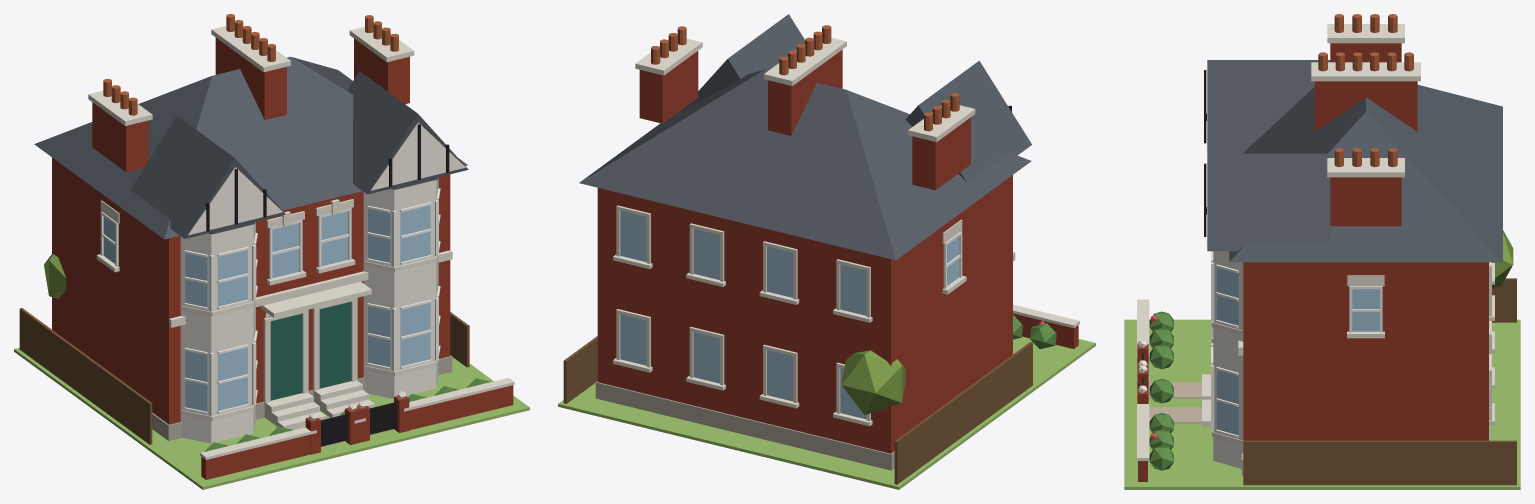
File: MustakilEv_londra_ikiz_6_Hafif.fbx
3 renders of one model, left to right at view 1: azimuth 30°, elevation 25°; view 2: azimuth 150°, elevation 25°; view 3: azimuth 270°, elevation 25°, orthographic. The views are drawn at different scales.
Visible parts, largest first — view 1: MustakilEv_londra_ikiz_6_Hafif; view 2: MustakilEv_londra_ikiz_6_Hafif; view 3: MustakilEv_londra_ikiz_6_Hafif.
Boxes of the visible parts, x1,y1,x2,y2 form: MustakilEv_londra_ikiz_6_Hafif: (14, 14, 529, 489); MustakilEv_londra_ikiz_6_Hafif: (558, 14, 1095, 489); MustakilEv_londra_ikiz_6_Hafif: (1124, 14, 1520, 489).
Bounding box in the file's own units: 10 × 9.79 × 10.
